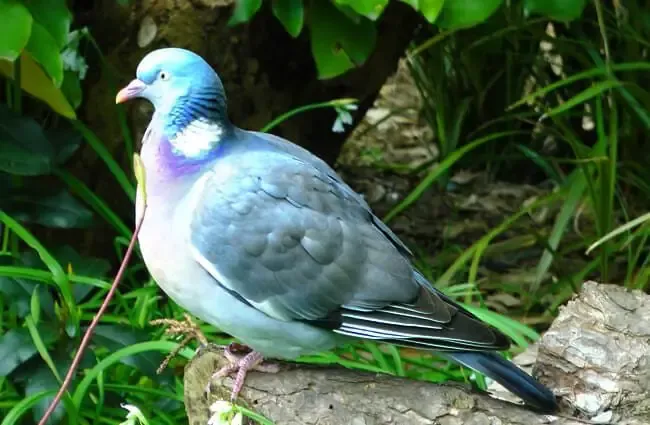Flying Rat: (110, 41, 541, 396)
